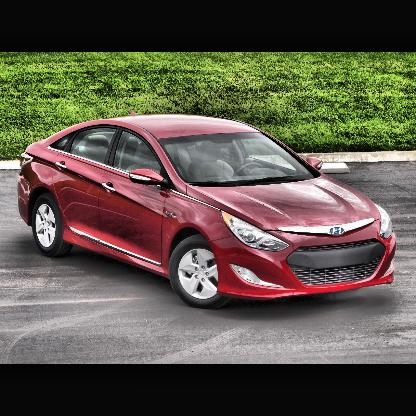Hyundai Sonata Hybrid Sedan 2012: (17, 112, 400, 317)
